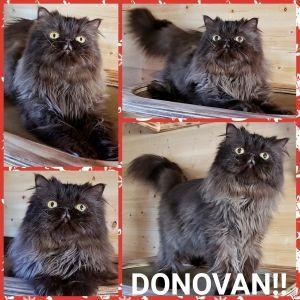persian: (207, 124, 294, 203)
